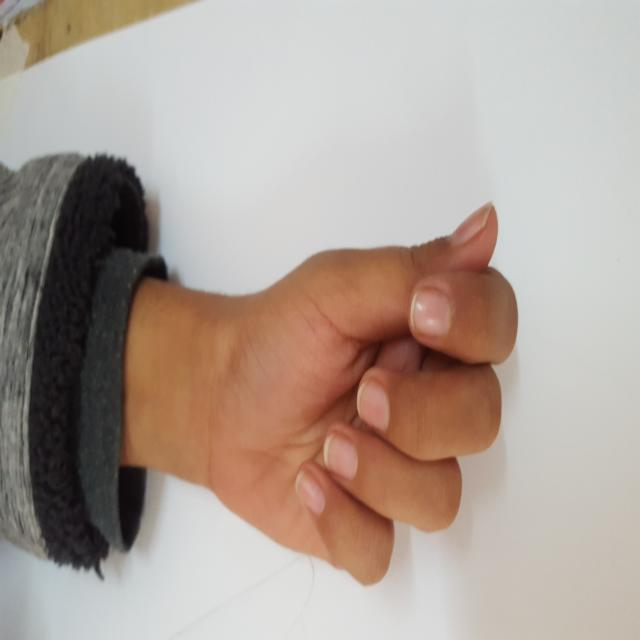Nail: (410, 285, 452, 338), (356, 376, 390, 432), (324, 429, 358, 480), (450, 206, 491, 244), (296, 470, 325, 514)
